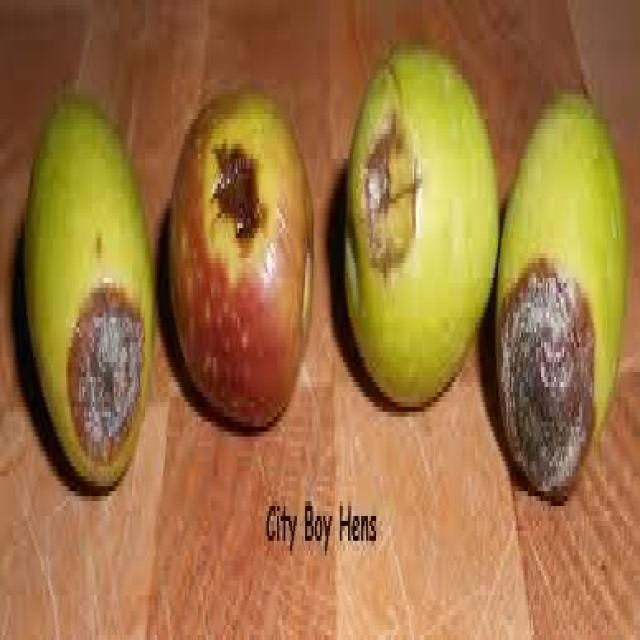Olive Fruit Fly: (343, 50, 496, 402), (495, 94, 627, 496), (23, 104, 153, 486), (168, 94, 310, 422)
